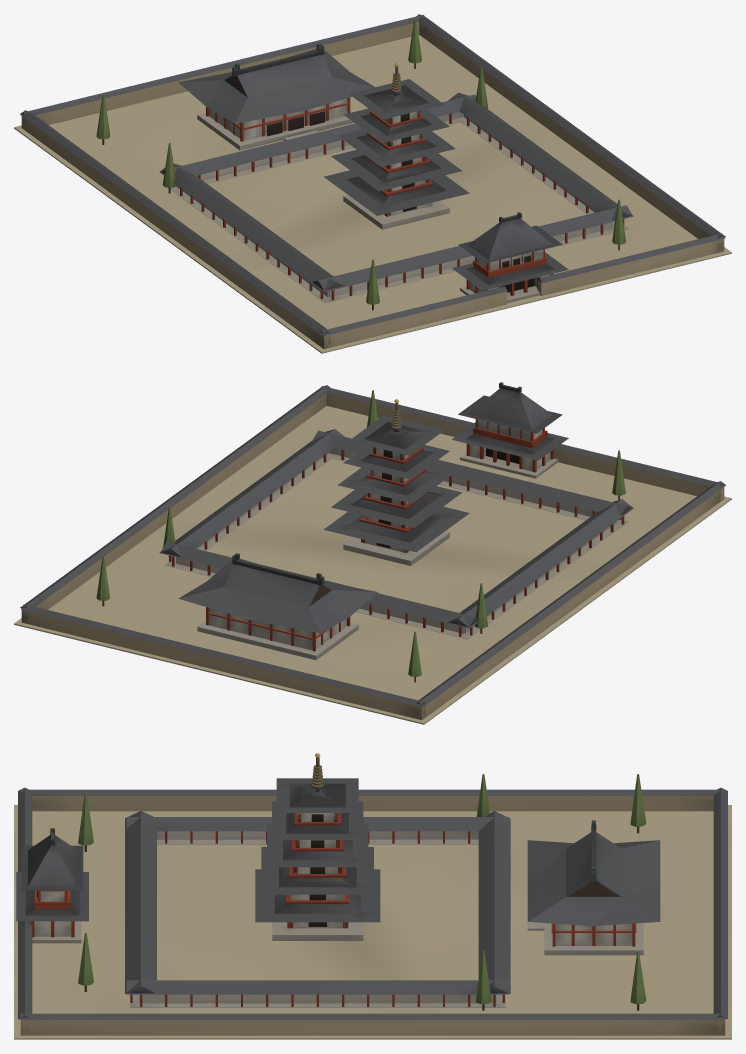
Rendered from wei-monastery.glb.
3 views of the same model, one above another, from view 1: azimuth 30°, elevation 25°; view 2: azimuth 150°, elevation 25°; view 3: azimuth 270°, elevation 25° (orthographic). The views are drawn at different scales.
Visible parts, largest first — view 1: p0_cloister, p1_halls, p2_trees; view 2: p0_cloister, p1_halls, p2_trees; view 3: p0_cloister, p1_halls, p2_trees.
Part boxes in pixels (x1,y1,x2,y2): p0_cloister: (14,14,731,353); p1_halls: (197,62,553,303); p2_trees: (96,18,625,310); p0_cloister: (14,385,731,724); p1_halls: (197,399,558,660); p2_trees: (96,382,625,682); p0_cloister: (14,787,731,1039); p1_halls: (31,753,643,955); p2_trees: (16,774,660,1010).
Bounding box in the file's own units: 100 × 33.95 × 130.
